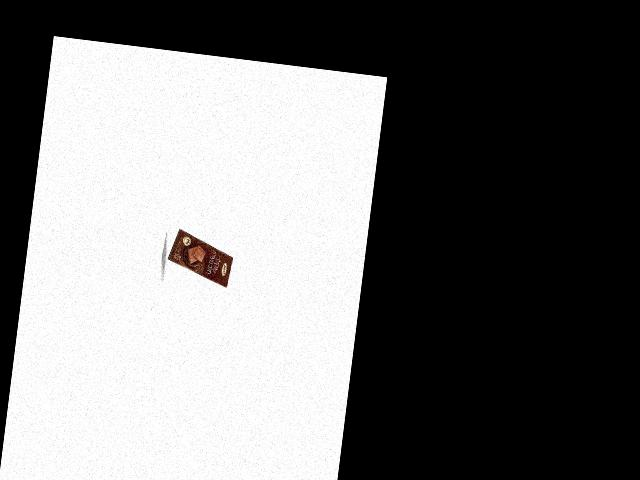chocolate: (162, 225, 236, 288)
